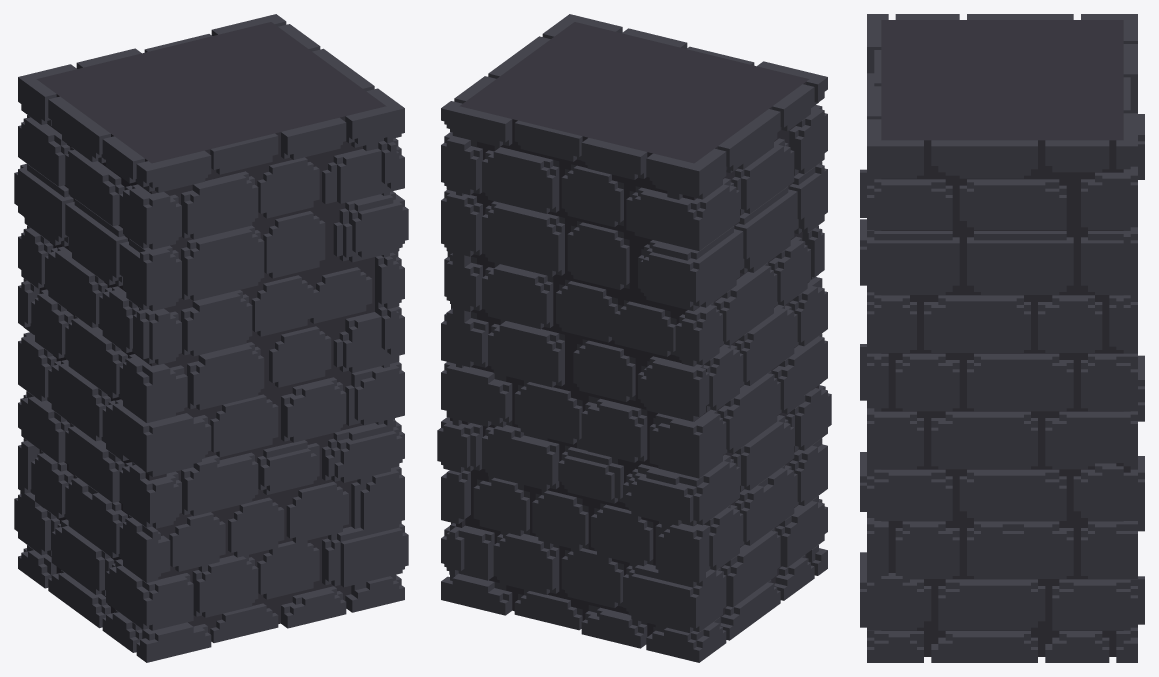
File: BgWall_02.obj
The picture shows the model from 3 angles, left to right: view 1: azimuth 30°, elevation 25°; view 2: azimuth 150°, elevation 25°; view 3: azimuth 270°, elevation 25°; orthographic projection. The views are drawn at different scales.
Size of the model in its own units: 4.4 by 8 by 4.
Materials: 1 (1 with a texture image).
